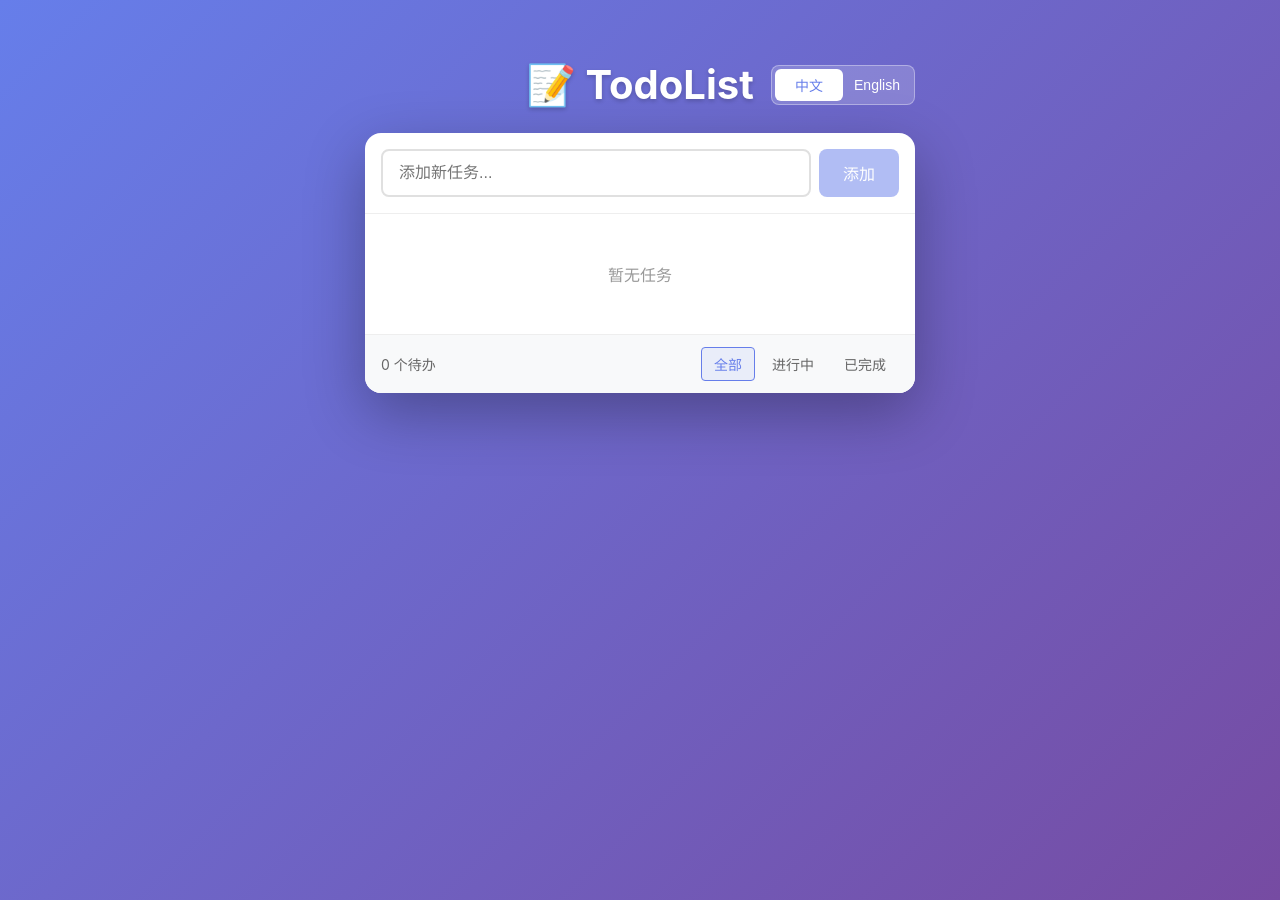
Test: App language switch › defaults to Chinese and switches visible labels to English
Expected: the field with placeholder "添加新任务..." is shown, [381,149,811,197]
Expected: the button "添加" is shown, [819,149,899,197]
Click the button "English" at (877, 84), box [843,68,911,100]
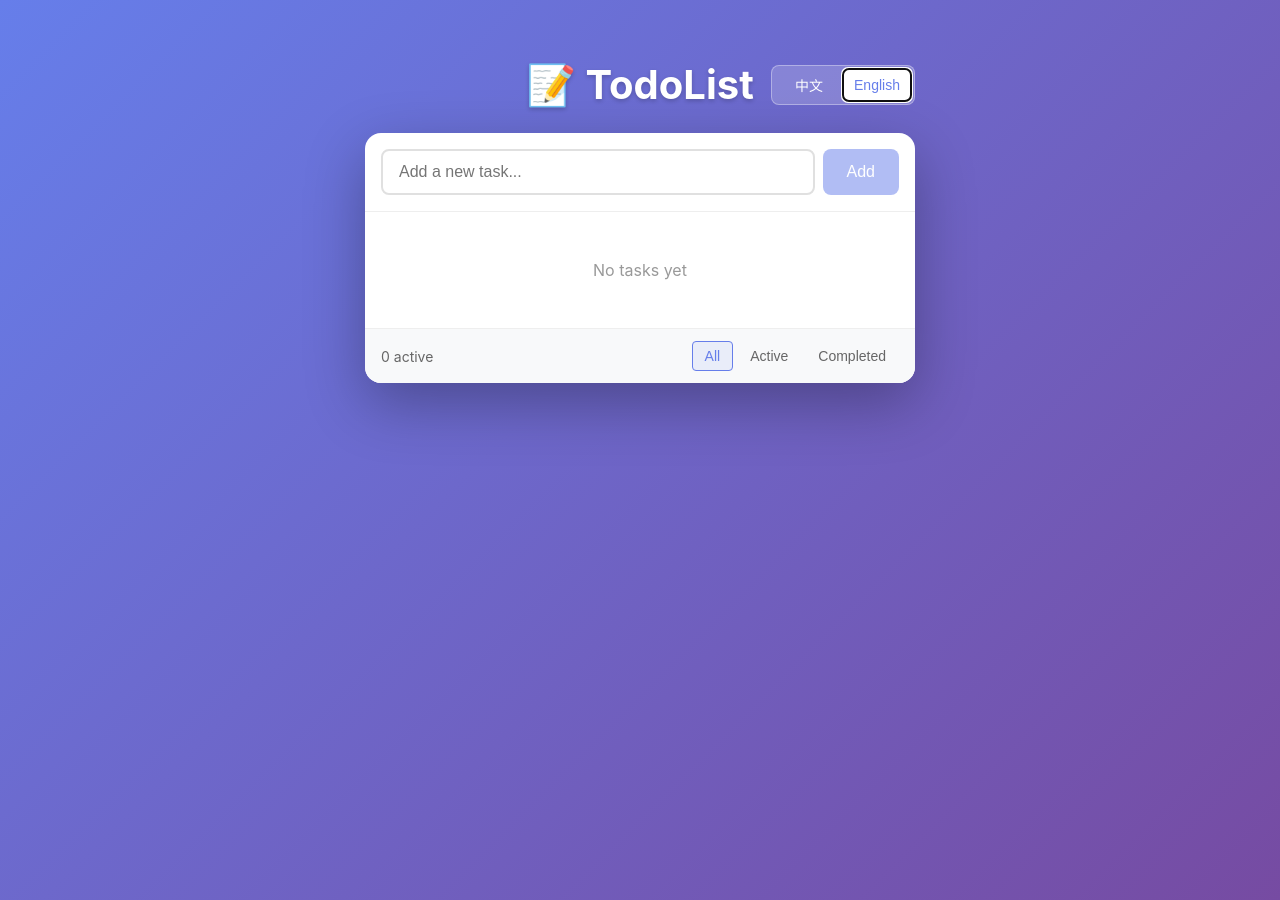
Result: the field with placeholder "Add a new task..." is shown at [381,149,814,195]
Result: the button "All" is shown at [692,341,733,371]
Result: the button "Active" is shown at [737,341,801,371]
